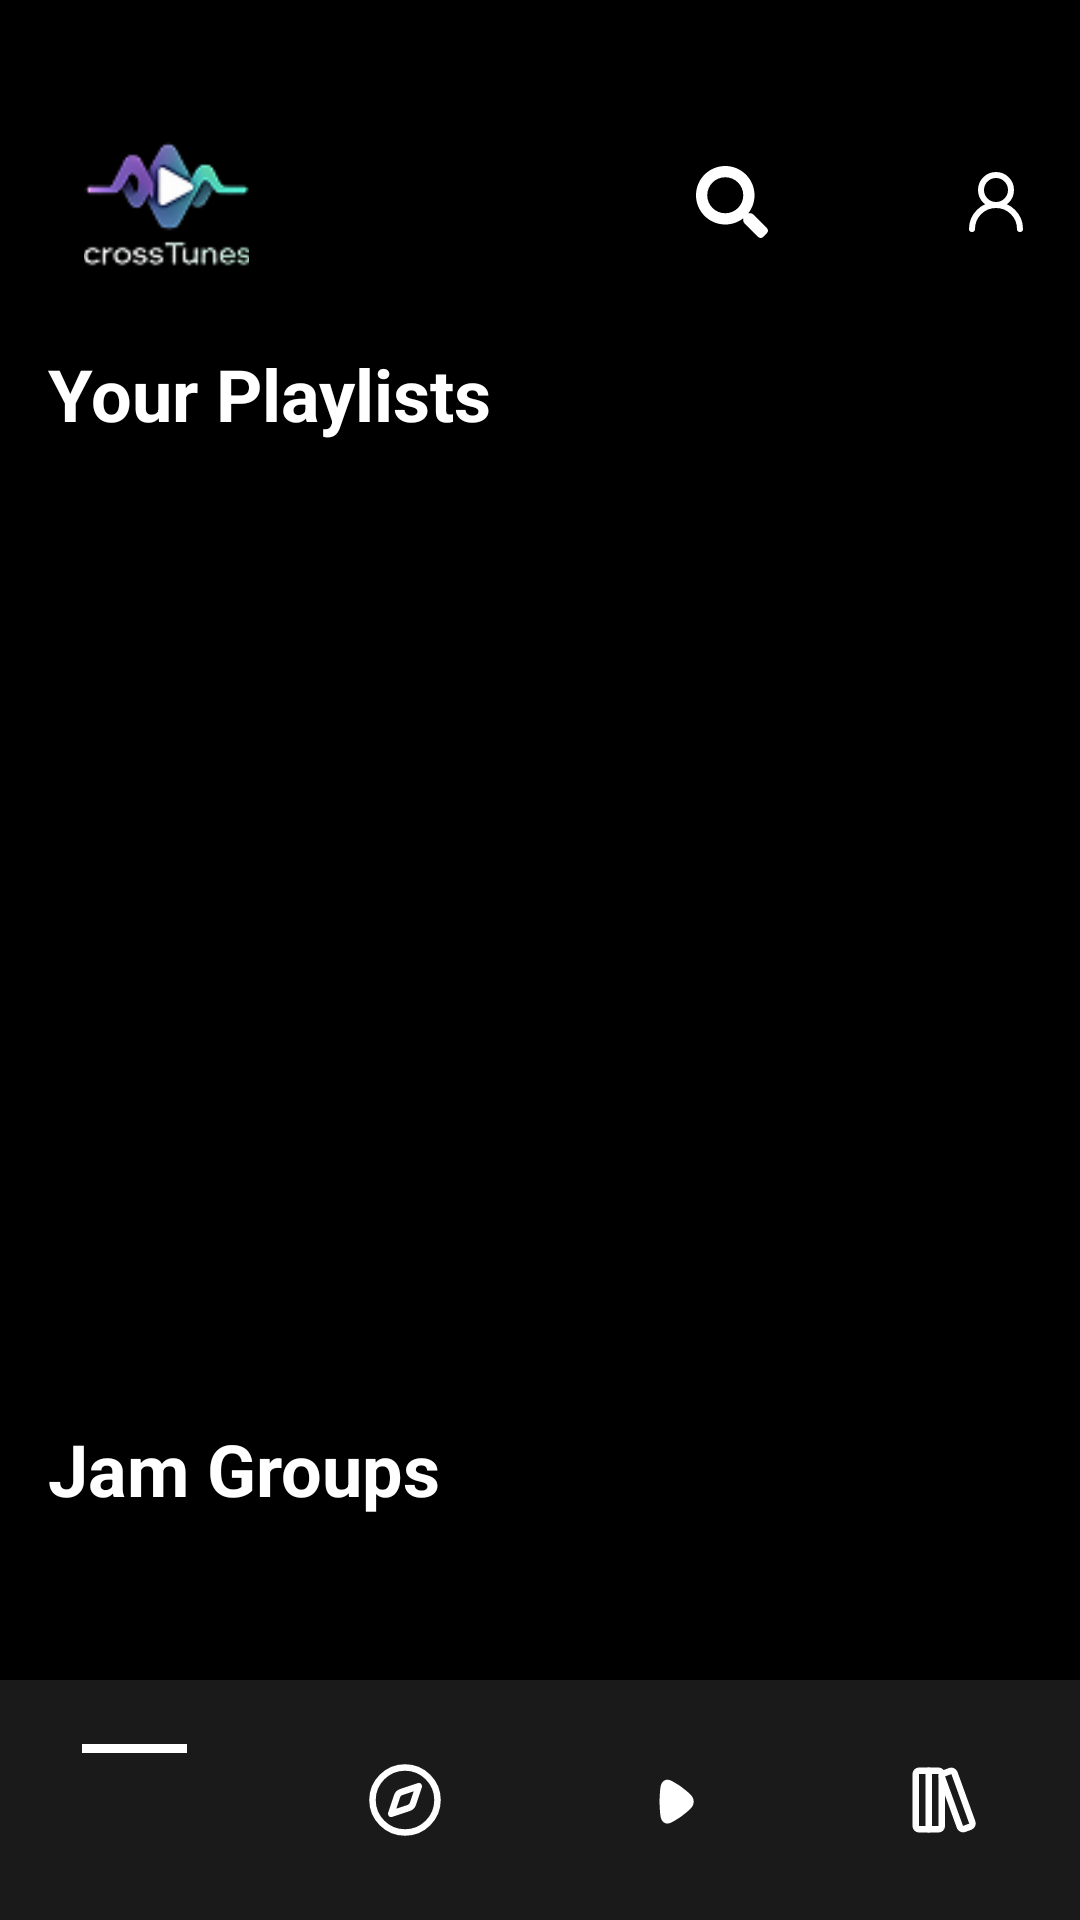

Icon bounding boxes for this 1080*1920 phone screenshot, format (x1, y1, x2, y2):
compass: (369, 1764, 441, 1836)
library: (912, 1767, 976, 1833)
play: (659, 1779, 694, 1824)
profile: (969, 172, 1023, 232)
search: (696, 166, 768, 238)
